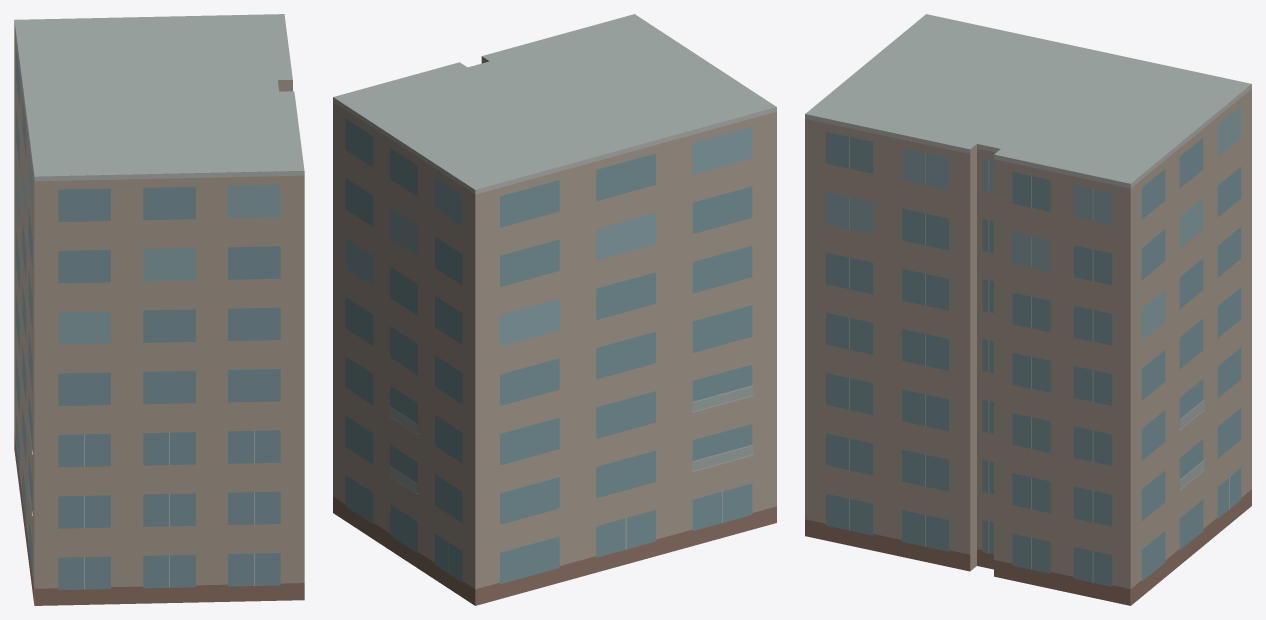
Rendered from survey-upis-32723238.glb.
3 views of the same model, side by side, from view 1: azimuth 30°, elevation 25°; view 2: azimuth 150°, elevation 25°; view 3: azimuth 270°, elevation 25° (orthographic). The views are drawn at different scales.
Visible parts, largest first — view 1: survey-upis-32723238.tmp; view 2: survey-upis-32723238.tmp; view 3: survey-upis-32723238.tmp.
Boxes of the visible parts, left/top/right/bottom form: survey-upis-32723238.tmp: left=14, top=14, right=304, bottom=605; survey-upis-32723238.tmp: left=333, top=14, right=776, bottom=605; survey-upis-32723238.tmp: left=805, top=14, right=1251, bottom=605.
Bounding box in the file's own units: 18.82 × 21.8 × 20.92.
